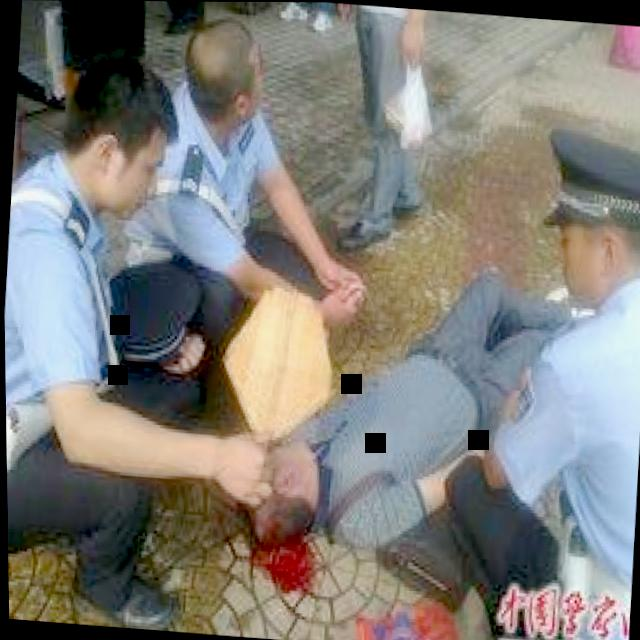Fall-Detected: (225, 217, 579, 579)
